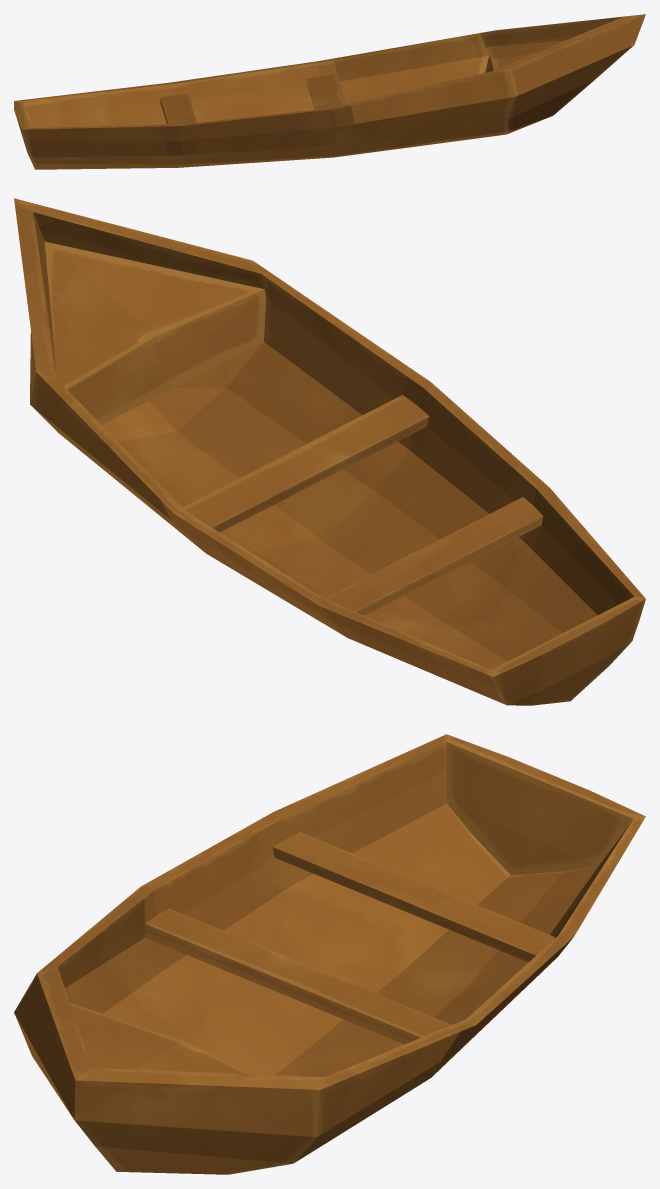
File: Boat.fbx
The picture shows the model from 3 angles, top to bottom: view 1: azimuth 30°, elevation 25°; view 2: azimuth 150°, elevation 25°; view 3: azimuth 270°, elevation 25°; orthographic projection. The views are drawn at different scales.
Visible parts, largest first — view 1: Boat; view 2: Boat; view 3: Boat.
Part boxes in pixels (x1=…): Boat: x1=14, y1=14, x2=645, y2=169; Boat: x1=14, y1=198, x2=645, y2=705; Boat: x1=14, y1=734, x2=645, y2=1174.
Size of the model in its own units: 625 by 146 by 362.
